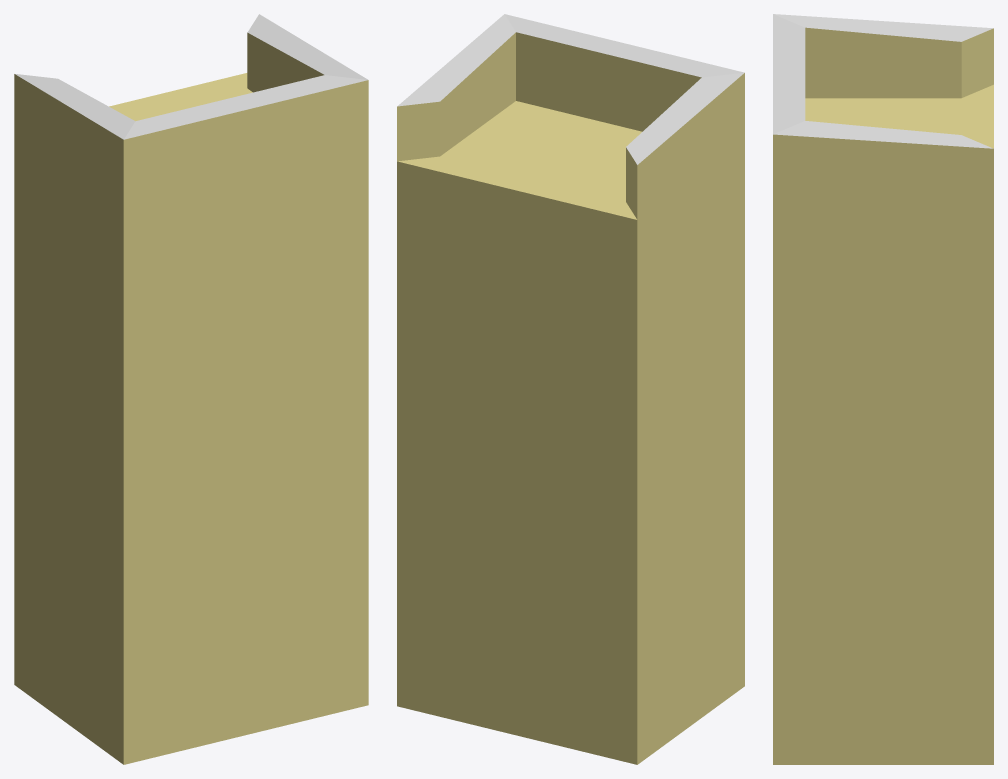
Rendered from TempatWasit.fbx.
The picture shows the model from 3 angles, left to right: view 1: azimuth 30°, elevation 25°; view 2: azimuth 150°, elevation 25°; view 3: azimuth 270°, elevation 25°; orthographic projection. The views are drawn at different scales.
Parts seen in each view (by area): view 1: Cube.003; view 2: Cube.003; view 3: Cube.003.
Part boxes in pixels (x1,y1,x2,y2): Cube.003: (14, 14, 368, 764); Cube.003: (397, 14, 744, 764); Cube.003: (773, 14, 993, 764).
Bounding box in the file's own units: 106 × 257 × 81.72.
